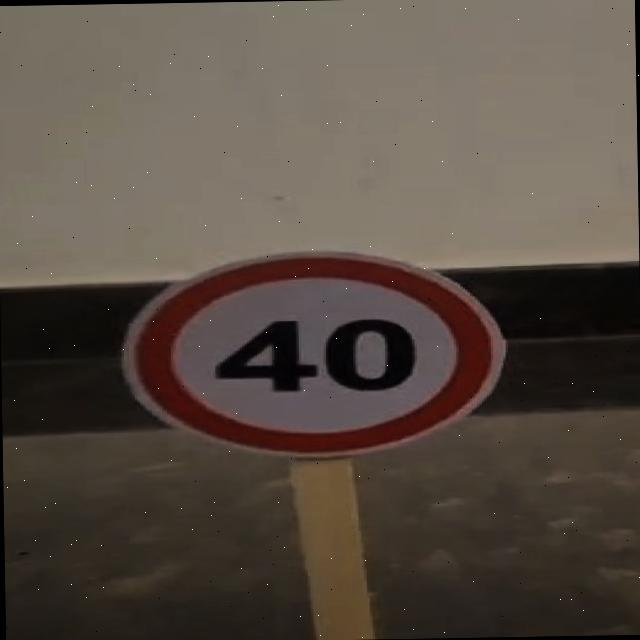Speed40: (101, 241, 518, 465)
